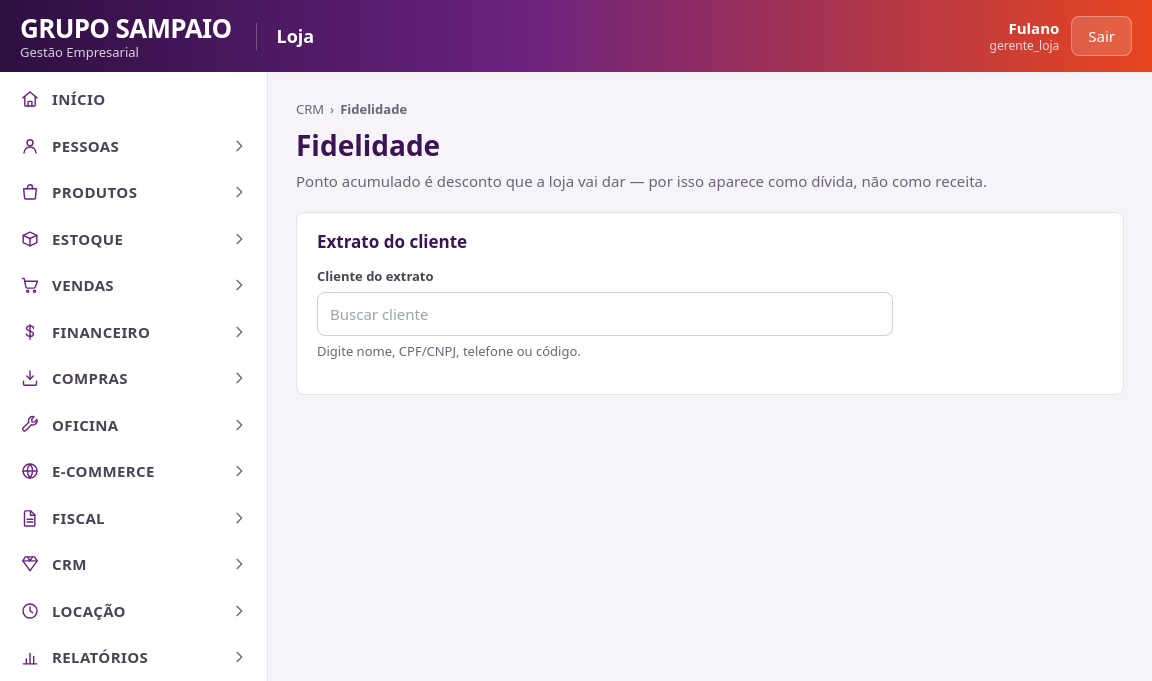
Test case: Fidelidade: o extrato de qualquer cliente, por busca › não carrega a lista dos 100 primeiros; acha a Zuleide pelo nome
Type "Zul" into the field labelled "Cliente do extrato". click: [605, 314]
box: [317,292,893,336]
(page scrolled)
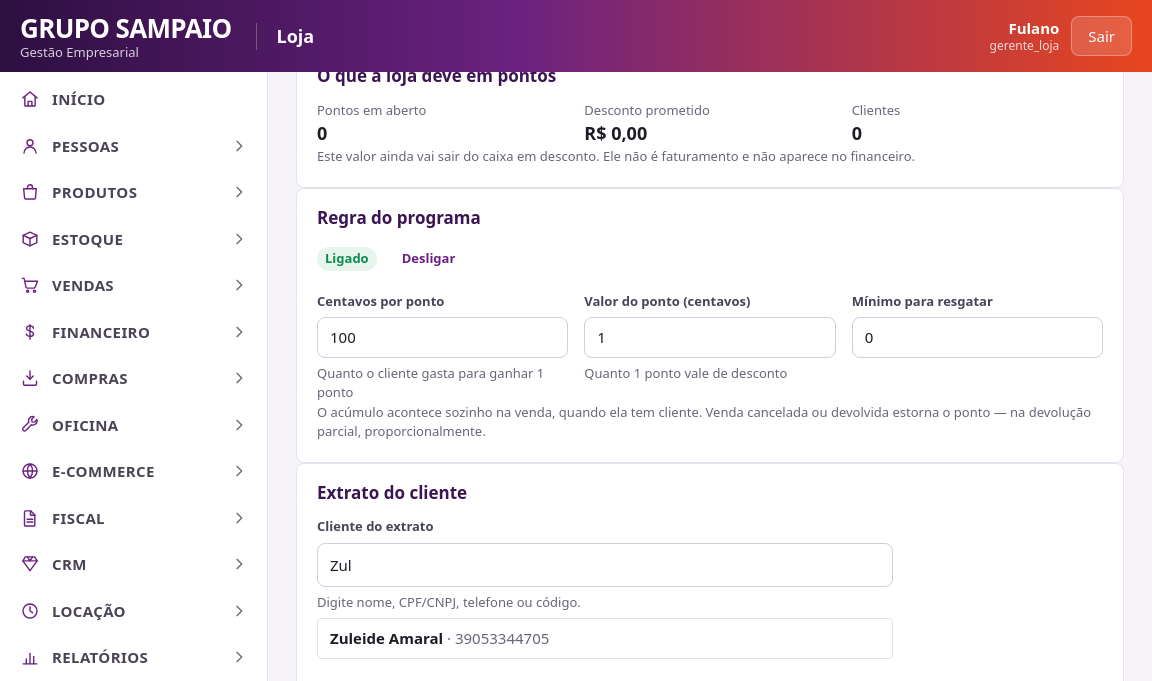
Click the button "Zuleide Amaral · 39053344705". click: [387, 638]
box: [317,618,893,658]
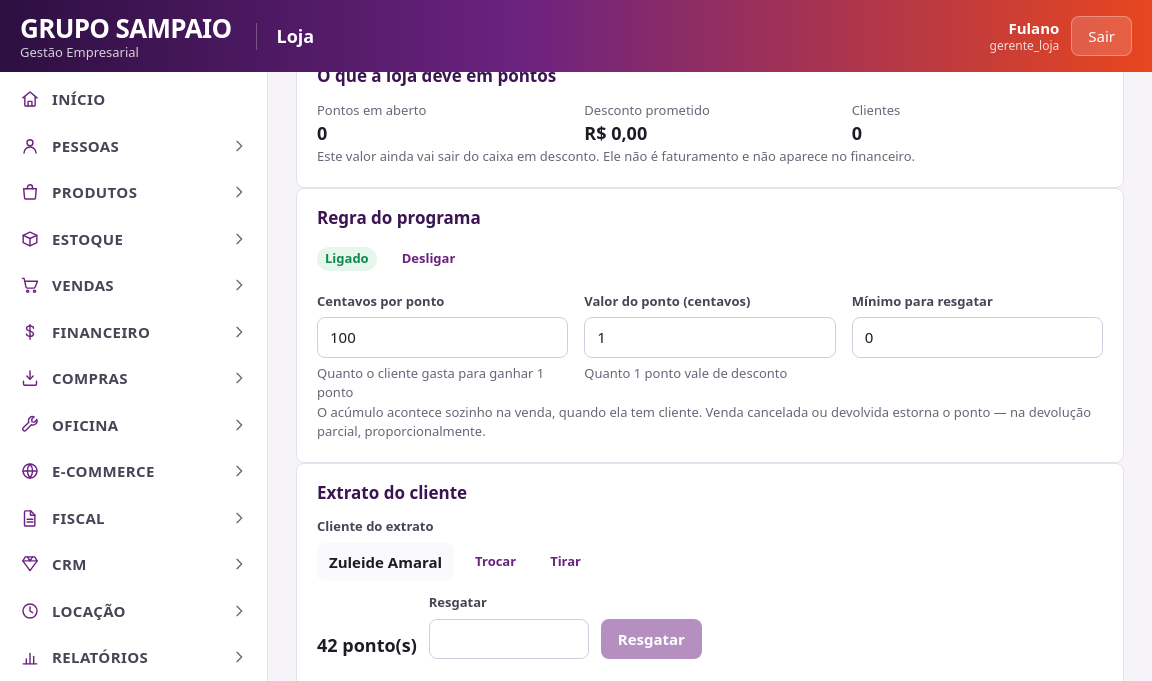
Result: the text "42 ponto(s)" is shown at [317,632,417,659]
